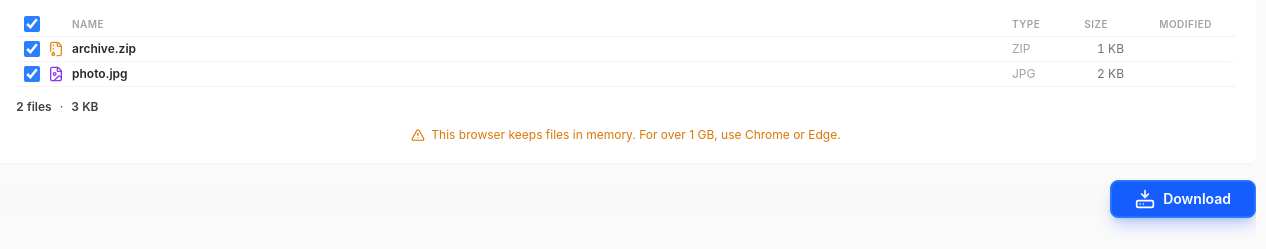
Test case: ReceiverView Component UI & Interaction › choosing which files to download › cannot start with nothing ticked
Click the checkbox labelled "archive.zip zip 1 KB": (32,49) [24, 41, 40, 57]
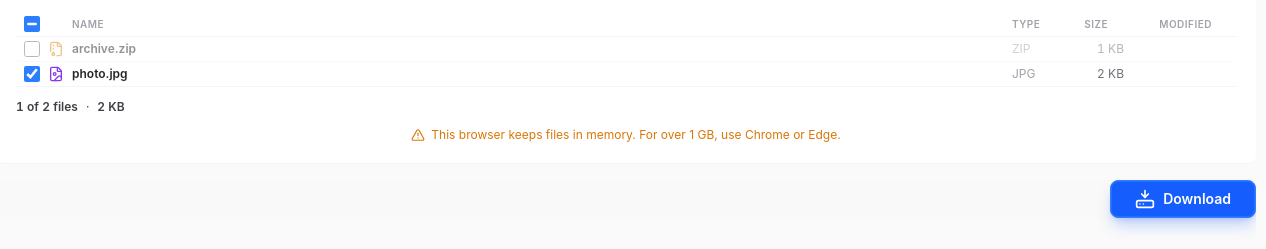
Click the checkbox labelled "photo.jpg jpg 2 KB": (32,74) [24, 66, 40, 82]
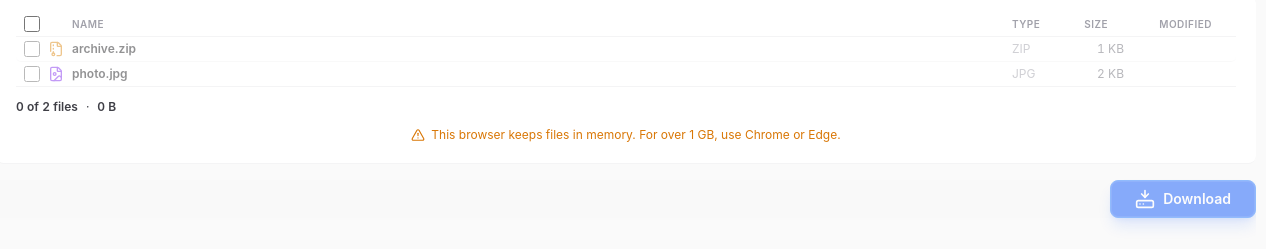
Now the button with test id "start-download" is disabled, box [1110, 180, 1256, 218]
